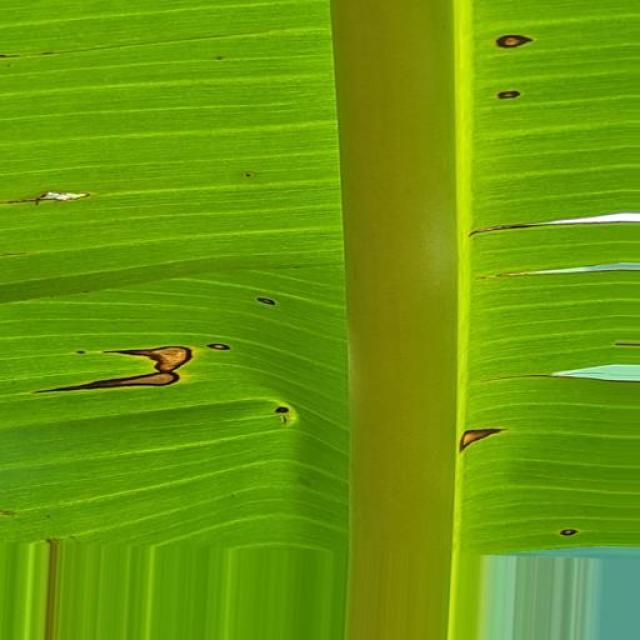Early_rust: (26, 300, 308, 462), (460, 181, 588, 294), (461, 0, 564, 122), (0, 135, 97, 240), (440, 375, 520, 474), (532, 503, 598, 565)
